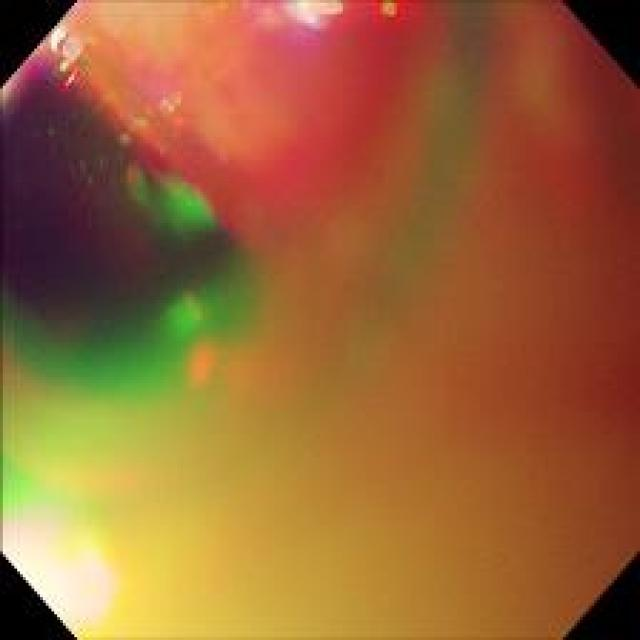color misalignment: (11, 9, 611, 625), (382, 0, 499, 395), (141, 134, 279, 422)
contrast: (2, 59, 252, 402)
saturation: (1, 510, 130, 629)
